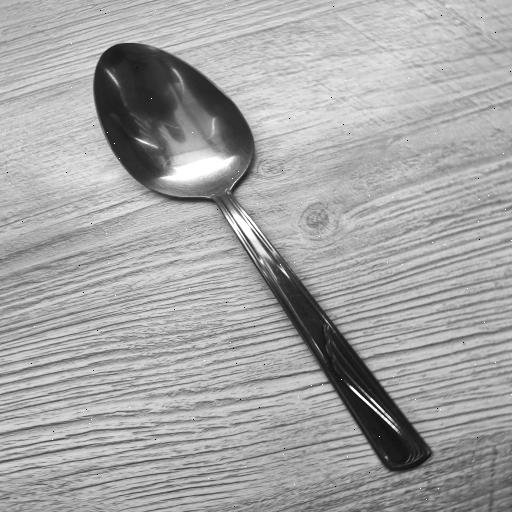spoon: (84, 38, 440, 474)
